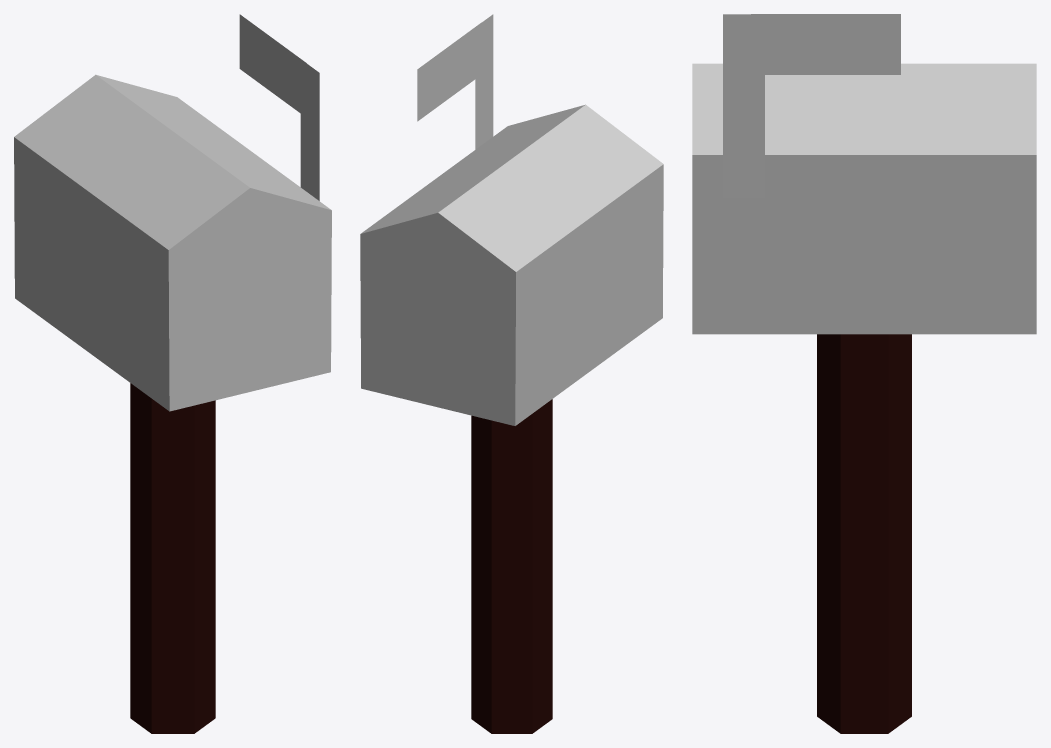
The model's file is CaixaDeCorreio.obj.
3 views of the same model, side by side, from view 1: azimuth 30°, elevation 25°; view 2: azimuth 150°, elevation 25°; view 3: azimuth 270°, elevation 25° (orthographic). The views are drawn at different scales.
Parts seen in each view (by area): view 1: Cube, Cilindro, Plano.001, Plano; view 2: Cube, Cilindro, Plano.001, Plano; view 3: Cube, Cilindro, Plano.001, Plano.
Part boxes in pixels (bbox=[...]): Cube: bbox=[14, 74, 331, 411]; Cilindro: bbox=[130, 383, 215, 733]; Plano.001: bbox=[239, 14, 306, 114]; Plano: bbox=[300, 59, 319, 200]; Cube: bbox=[360, 104, 663, 425]; Cilindro: bbox=[471, 399, 552, 733]; Plano.001: bbox=[417, 22, 481, 121]; Plano: bbox=[475, 14, 493, 149]; Cube: bbox=[692, 63, 1036, 334]; Cilindro: bbox=[817, 334, 911, 733]; Plano.001: bbox=[751, 14, 900, 74]; Plano: bbox=[723, 14, 764, 197].
Bounding box in the file's own units: 0.8934 × 3.49 × 1.45.
